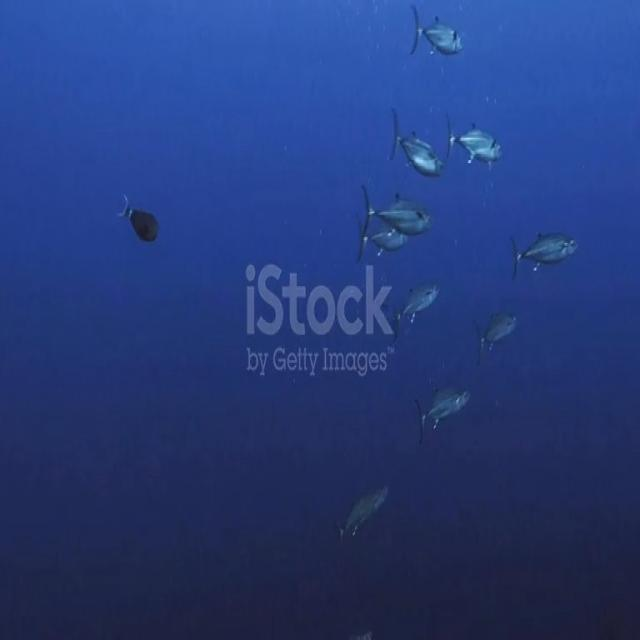fish: (334, 476, 400, 556), (410, 378, 479, 444), (508, 222, 583, 282), (388, 108, 446, 180), (360, 183, 432, 238), (117, 184, 163, 262), (408, 7, 470, 64), (449, 114, 504, 173), (388, 280, 442, 336), (472, 308, 526, 361), (351, 225, 415, 260)
